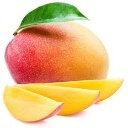mango: (3, 18, 111, 80)
